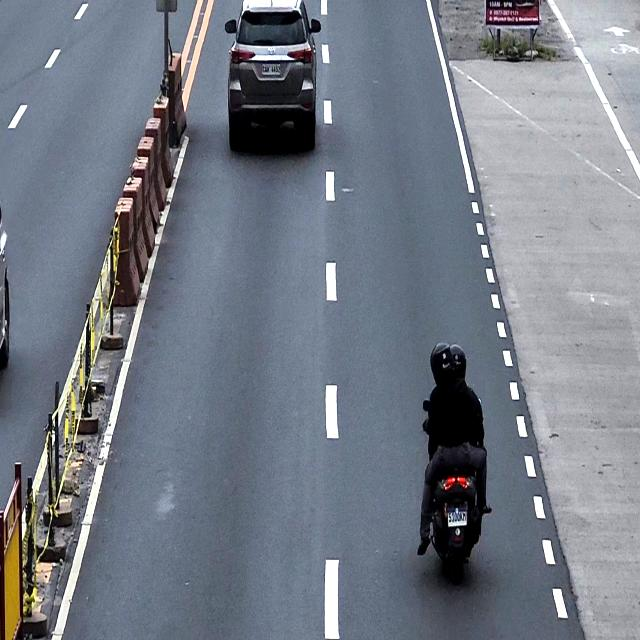Car: (224, 0, 323, 157)
License-Plate: (448, 510, 467, 530), (260, 61, 282, 78)
Motorcycle: (422, 396, 488, 571)
